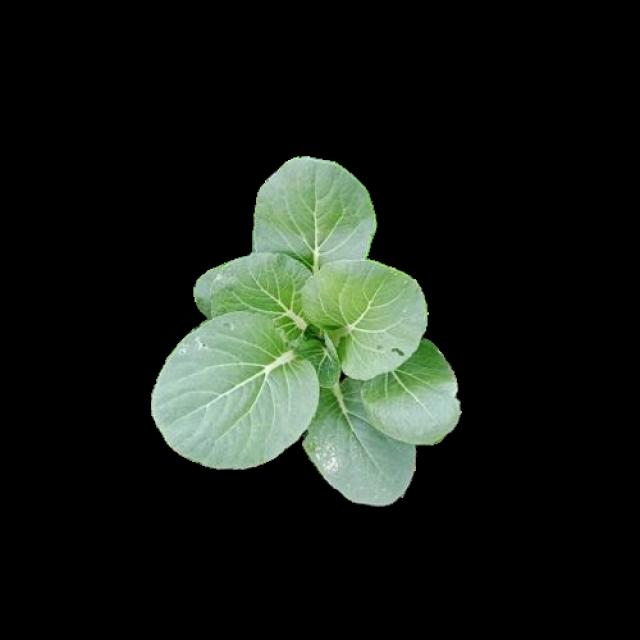not-mature: (153, 158, 460, 506)
unhealthy: (155, 311, 321, 466), (300, 260, 426, 380), (301, 372, 412, 504), (196, 251, 310, 326)
